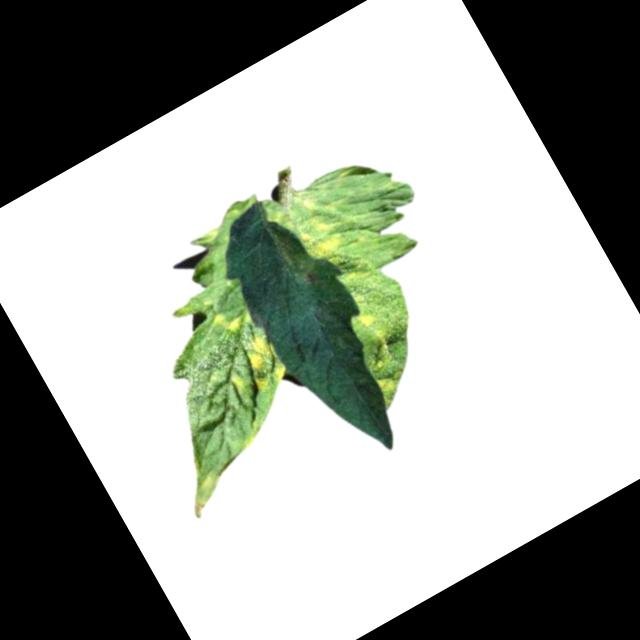Leaf_Mold: (217, 333, 292, 406), (293, 213, 347, 263), (208, 302, 249, 343)
